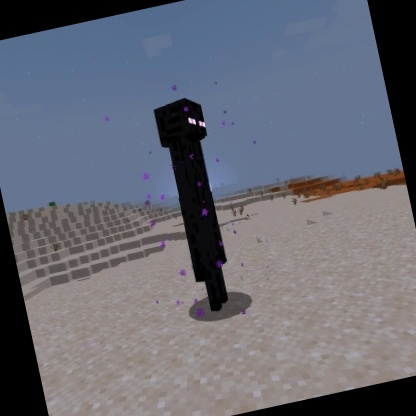enderman: (147, 92, 248, 320)
